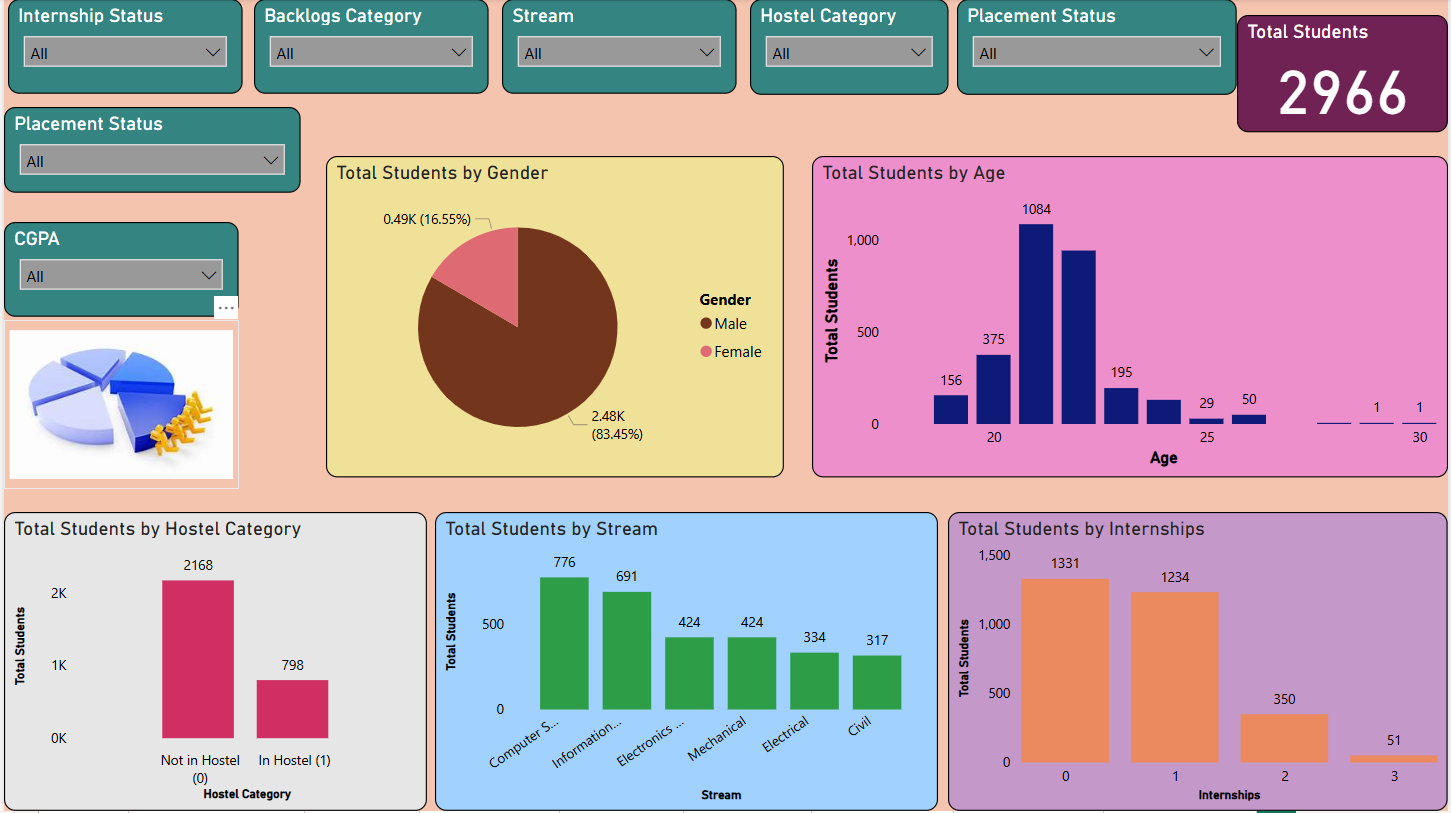

The page's visual inventory and layout, read from the dashboard file:
{"tool":"powerbi","page":{"name":"Contribution of Students","canvas":[1280,720],"ordinal":1},"visuals":[{"type":"pieChart","fields":{"Category":["collegePlace.Gender"],"Y":["CountNonNull(collegePlace.Age)"]},"box":[285.5,139.2,406.1,284.6],"z":0},{"type":"columnChart","fields":{"Category":["collegePlace.Stream"],"Y":["CountNonNull(collegePlace.Age)"]},"box":[382.2,454.9,446,265.1],"z":1000},{"type":"columnChart","fields":{"Category":["collegePlace.Hostel Category"],"Y":["CountNonNull(collegePlace.Age)"]},"box":[0,455.2,375.4,264.6],"z":2000},{"type":"columnChart","fields":{"Category":["collegePlace.Age"],"Y":["CountNonNull(collegePlace.Age)"]},"box":[716.5,139.2,563.9,284.6],"z":3000},{"type":"columnChart","fields":{"Category":["collegePlace.Internships"],"Y":["CountNonNull(collegePlace.Internships)"]},"box":[837,454.9,443.3,265.1],"z":4000},{"type":"card","title":"Total Students","fields":{"Values":["CountNonNull(collegePlace.Age)"]},"box":[1093.3,14.2,187.1,103.7],"z":5000},{"type":"slicer","title":"Backlogs Category","fields":{"Values":["collegePlace.Backlogs Category"]},"box":[221.7,0,208.4,84.2],"z":6000},{"type":"slicer","title":"Stream","fields":{"Values":["collegePlace.Stream"]},"box":[441.6,0,208.4,84.2],"z":7000},{"type":"slicer","title":"Hostel Category","fields":{"Values":["collegePlace.Hostel Category"]},"box":[661.4,0,176,84.6],"z":8000},{"type":"slicer","title":"Placement Status","fields":{"Values":["collegePlace.placement status"]},"box":[0,95.8,263.3,76.3],"z":9000},{"type":"slicer","title":"Internship Status","fields":{"Values":["collegePlace.Internship Status"]},"box":[3.5,0,208.4,84.2],"z":10000},{"type":"slicer","title":"CGPA","fields":{"Values":["collegePlace.CGPA"]},"box":[0,197.7,208.4,84.2],"z":11000},{"type":"image","box":[0,285,208.1,149.8],"z":12000},{"type":"slicer","title":"Placement Status","fields":{"Values":["collegePlace.placement status"]},"box":[845.2,0,248,84.6],"z":13000}]}

Visuals, with their boxes in screenshot pixels (x1, y1, x2, y2), scaled from the page's 1280x720 canvas onto the 1451x813 screenshot:
pieChart - collegePlace.Gender x CountNonNull(collegePlace.Age): locate(324, 157, 784, 479)
columnChart - collegePlace.Stream x CountNonNull(collegePlace.Age): locate(433, 514, 939, 812)
columnChart - collegePlace.Hostel Category x CountNonNull(collegePlace.Age): locate(0, 514, 426, 812)
columnChart - collegePlace.Age x CountNonNull(collegePlace.Age): locate(812, 157, 1450, 479)
columnChart - collegePlace.Internships x CountNonNull(collegePlace.Internships): locate(949, 514, 1450, 812)
"Total Students" card: locate(1239, 16, 1450, 133)
"Backlogs Category" slicer: locate(251, 0, 488, 95)
"Stream" slicer: locate(501, 0, 737, 95)
"Hostel Category" slicer: locate(750, 0, 949, 96)
"Placement Status" slicer: locate(0, 108, 298, 194)
"Internship Status" slicer: locate(4, 0, 240, 95)
"CGPA" slicer: locate(0, 223, 236, 318)
image: locate(0, 322, 236, 491)
"Placement Status" slicer: locate(958, 0, 1239, 96)
